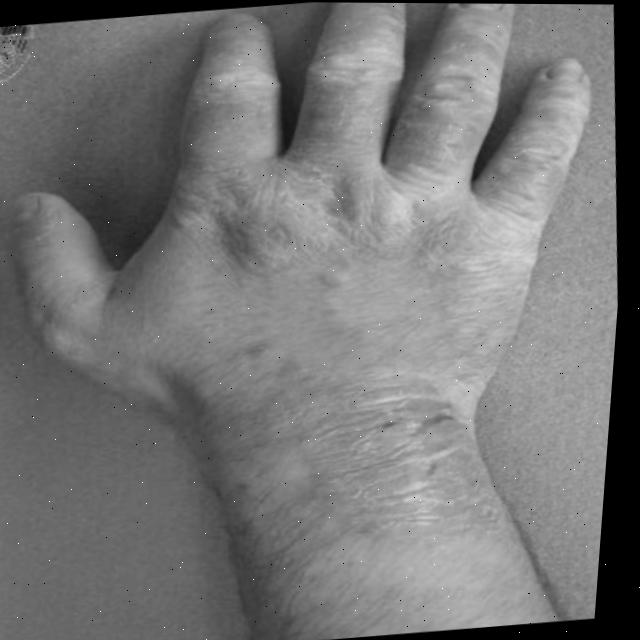Eczema: (141, 39, 550, 553)
